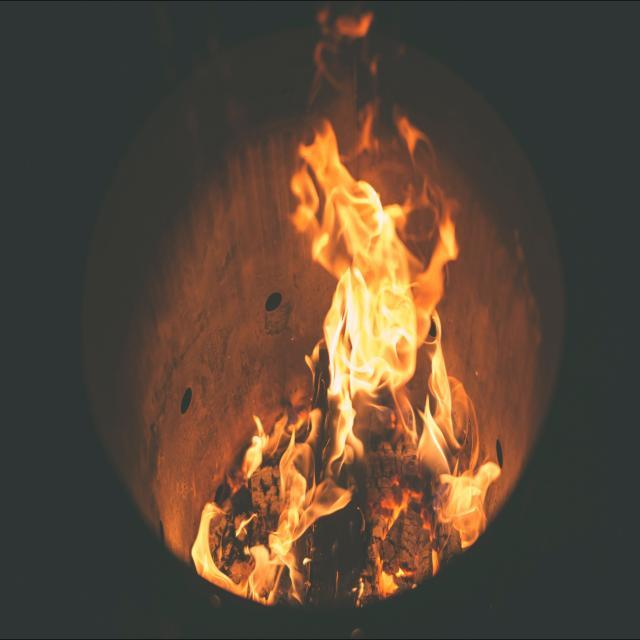Fire: (190, 12, 502, 608)
